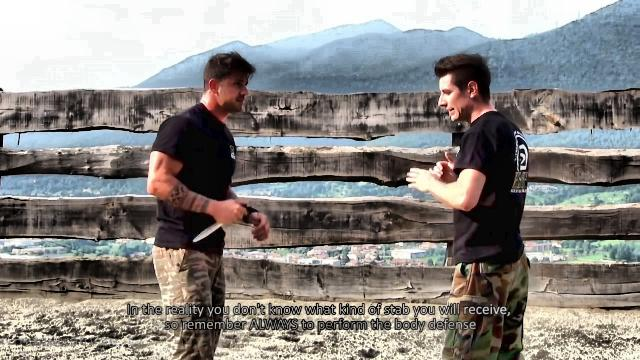knife: (189, 198, 249, 244)
